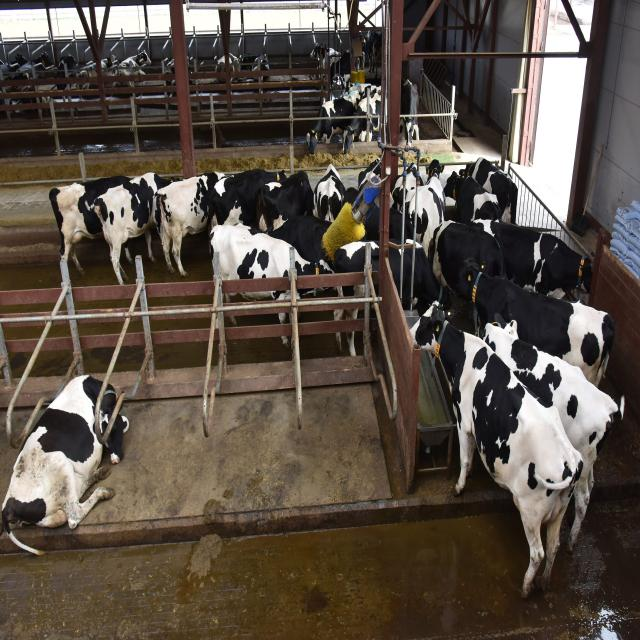cow: (409, 299, 584, 599), (480, 314, 626, 554), (0, 373, 130, 556), (456, 256, 616, 388), (209, 222, 334, 350), (472, 217, 594, 302), (90, 172, 174, 284), (48, 174, 134, 276), (364, 28, 382, 72)
